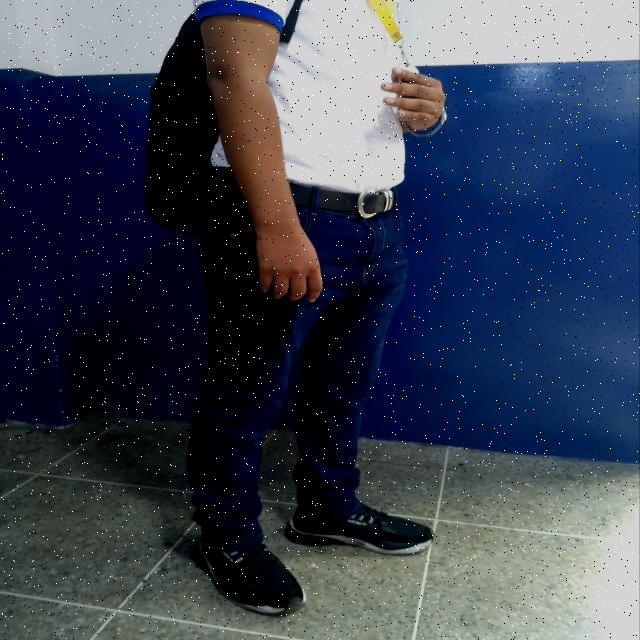pantalon_oscuro: (185, 191, 412, 553)
uniforme_superior: (191, 0, 406, 195)
